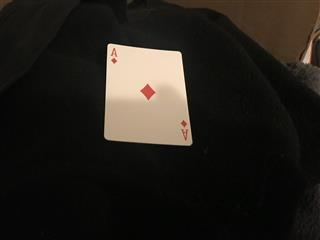AceOfDiamonds: (103, 42, 192, 145)
